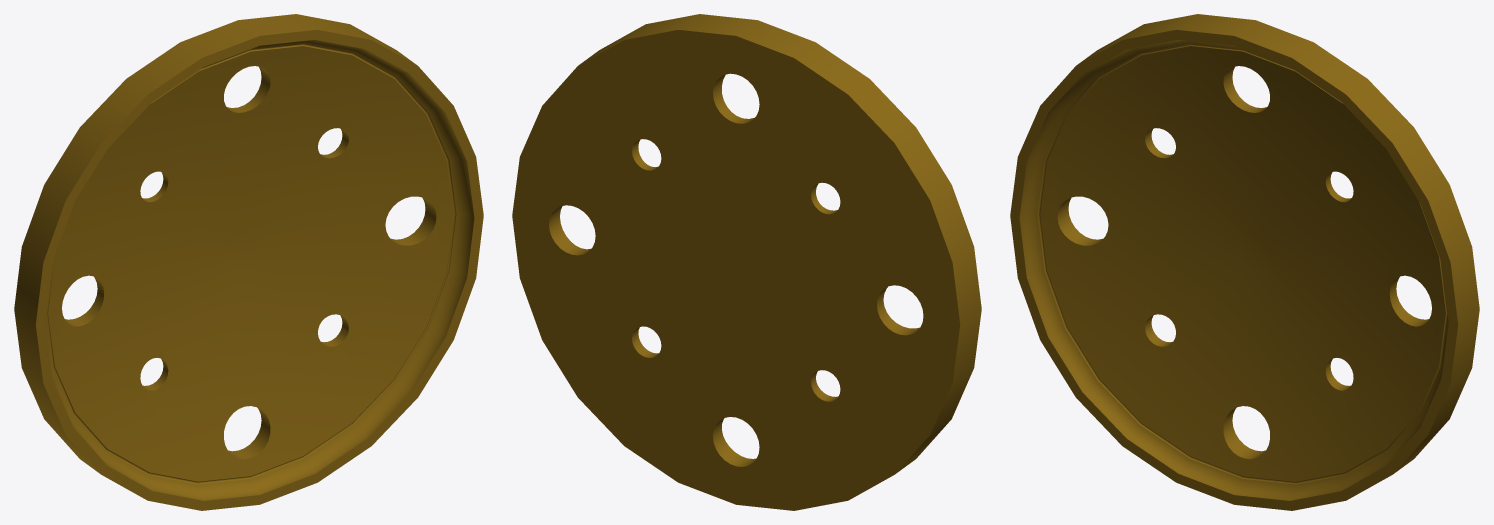
The model's file is original-3.obj.
The picture shows the model from 3 angles, left to right: view 1: azimuth 30°, elevation 25°; view 2: azimuth 150°, elevation 25°; view 3: azimuth 330°, elevation 25°; orthographic projection.
Visible parts, largest first — view 1: WHEEL_1_2/WHEEL_1/mesh1/mesh1-geometry#mesh1-geometry; view 2: WHEEL_1_2/WHEEL_1/mesh1/mesh1-geometry#mesh1-geometry; view 3: WHEEL_1_2/WHEEL_1/mesh1/mesh1-geometry#mesh1-geometry.
Part boxes in pixels (bbox=[...]): WHEEL_1_2/WHEEL_1/mesh1/mesh1-geometry#mesh1-geometry: bbox=[14, 14, 483, 510]; WHEEL_1_2/WHEEL_1/mesh1/mesh1-geometry#mesh1-geometry: bbox=[512, 14, 981, 510]; WHEEL_1_2/WHEEL_1/mesh1/mesh1-geometry#mesh1-geometry: bbox=[1010, 14, 1479, 510].
Size of the model in its own units: 0.0833 by 0.0833 by 0.00694.
